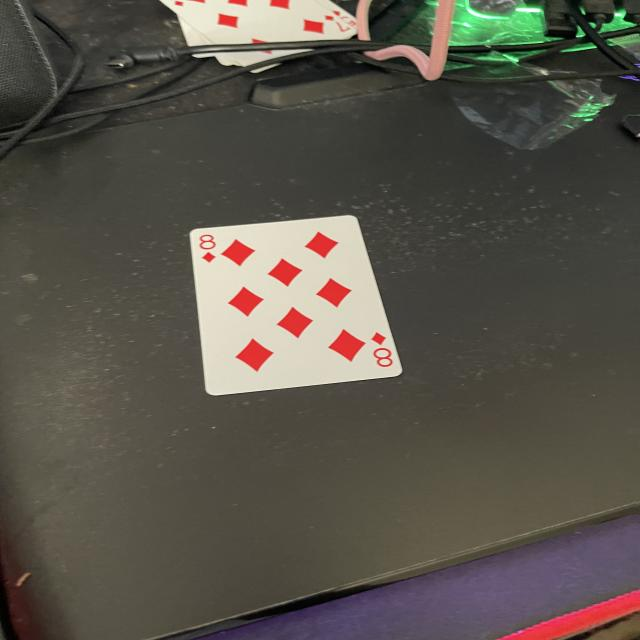8 of diamonds: (191, 216, 401, 393)
